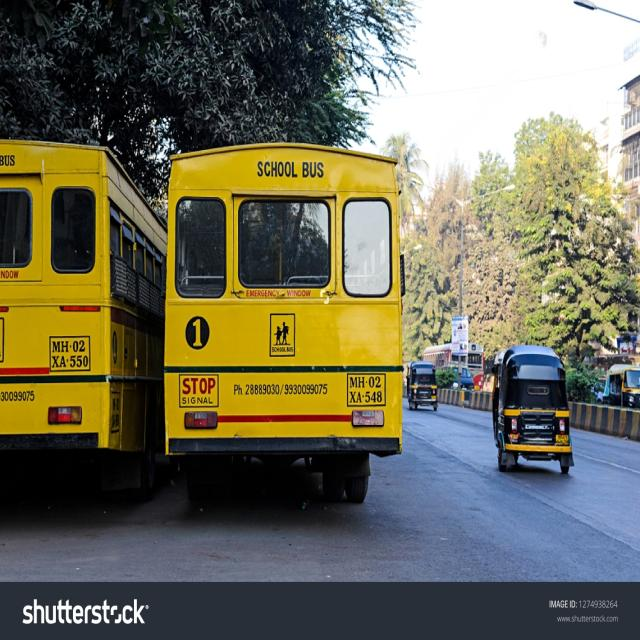autorickshaw: (492, 346, 574, 475), (602, 364, 640, 409), (406, 361, 438, 410)
bus: (164, 143, 405, 503), (0, 140, 168, 497)
